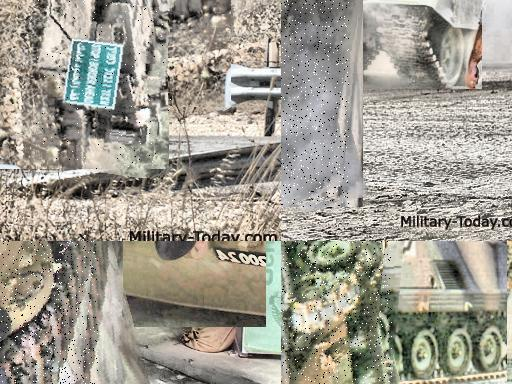tanks: (40, 1, 171, 170), (282, 1, 350, 208), (1, 242, 97, 384), (282, 242, 376, 384)
